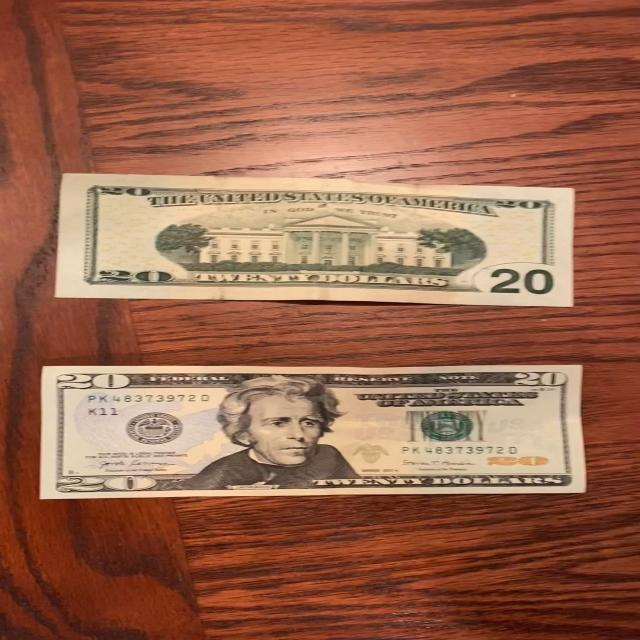20-Back: (44, 170, 585, 315)
20-Front: (32, 358, 604, 506)
